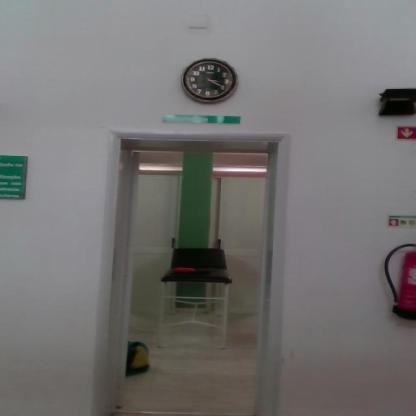door: (86, 123, 298, 415)
